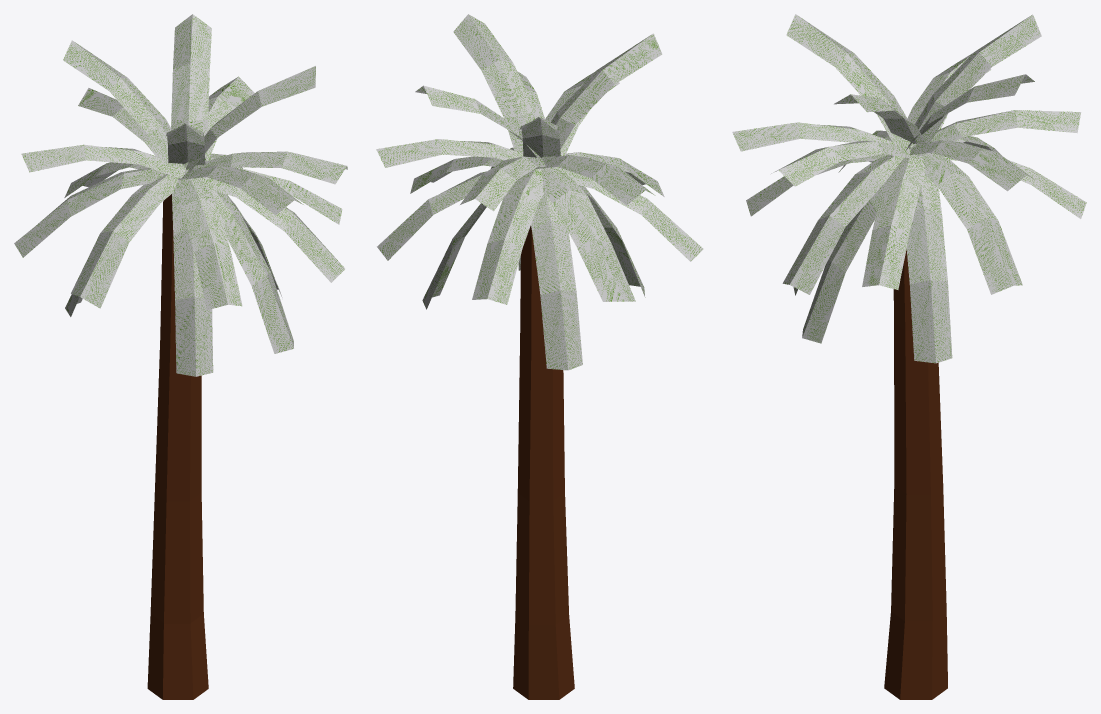
Rendered from T_Palm3PartialSnow.fbx.
3 renders of one model, left to right at view 1: azimuth 30°, elevation 25°; view 2: azimuth 150°, elevation 25°; view 3: azimuth 270°, elevation 25°, orthographic. The views are drawn at different scales.
Visible parts, largest first — view 1: Cylinder; view 2: Cylinder; view 3: Cylinder.
Part boxes in pixels (x1,y1,x2,y2): Cylinder: (14,14,347,699); Cylinder: (376,14,703,699); Cylinder: (732,14,1086,699).
Bounding box in the file's own units: 4.44 × 9.51 × 4.72.
